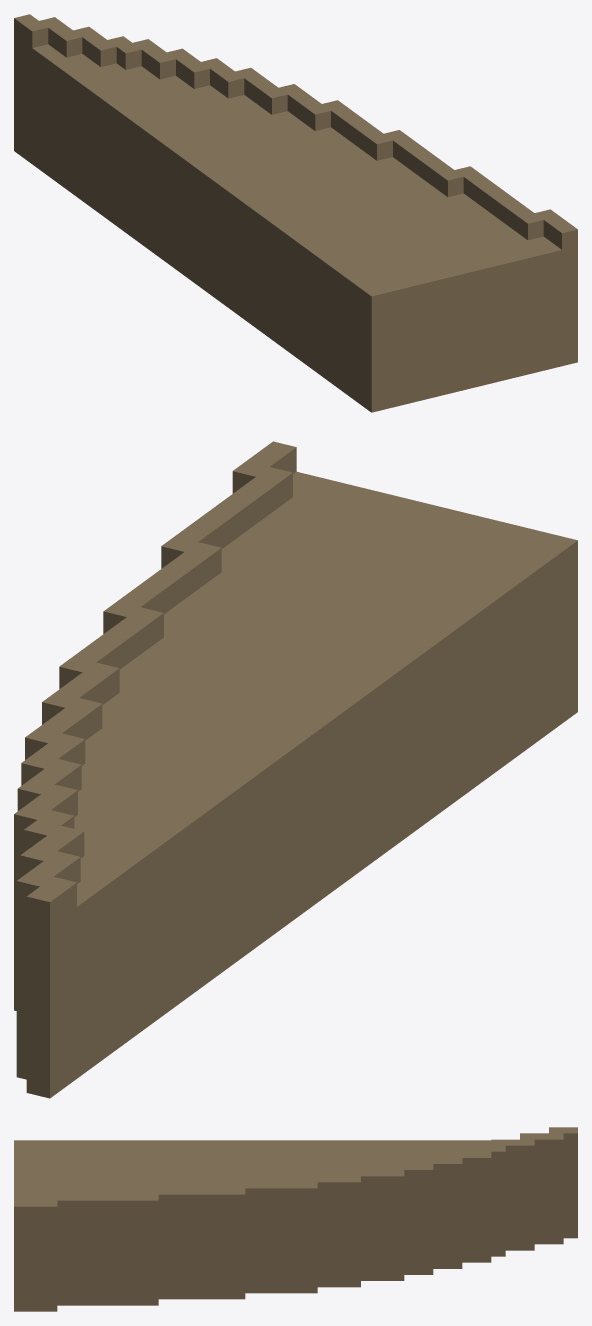
File: CorridorCorner01-0.obj
3 views of the same model, one above another, from view 1: azimuth 30°, elevation 25°; view 2: azimuth 150°, elevation 25°; view 3: azimuth 270°, elevation 25° (orthographic). The views are drawn at different scales.
Size of the model in its own units: 1.3 by 0.8 by 3.9.
1 material, 1 textured.
